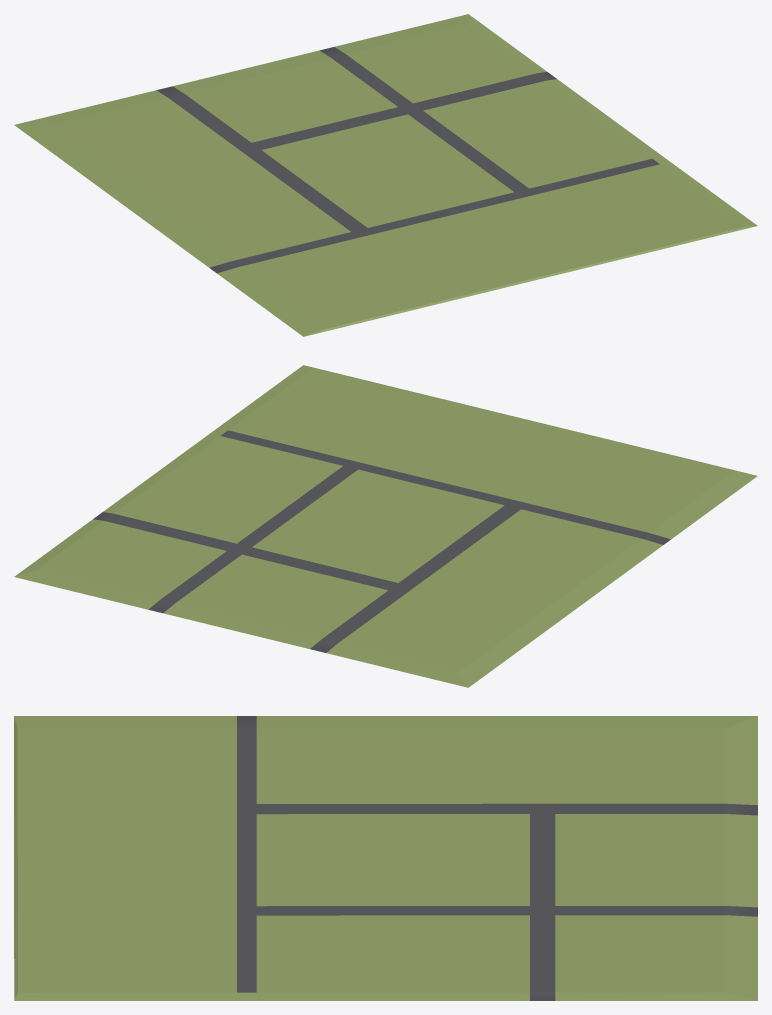
3 renders of one model, top to bottom at view 1: azimuth 30°, elevation 25°; view 2: azimuth 150°, elevation 25°; view 3: azimuth 270°, elevation 25°, orthographic. The views are drawn at different scales.
Visible parts, largest first — view 1: Lawn; view 2: Lawn; view 3: Lawn.
Part boxes in pixels (x1,y1,x2,y2): Lawn: (14,14,757,336); Lawn: (14,365,757,687); Lawn: (14,716,757,1000).
Size of the model in its own units: 11735 by 28.57 by 12950.
Materials: 2 (1 with a texture image).
